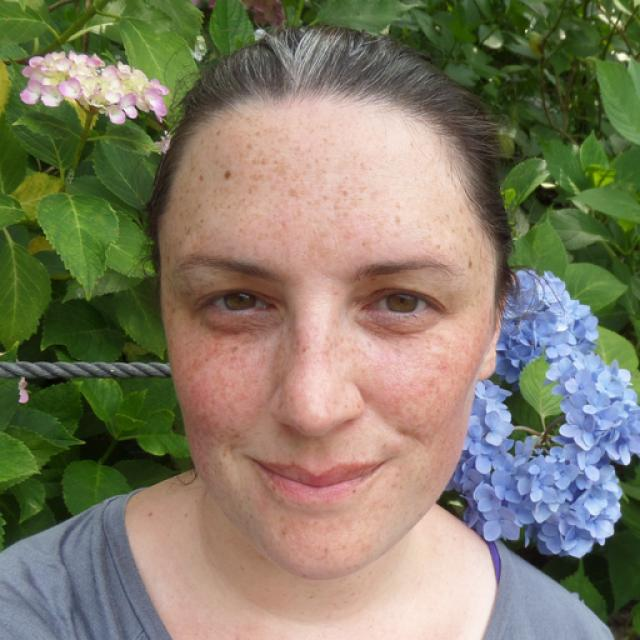Pigmentation: (176, 119, 319, 241), (368, 333, 478, 445), (179, 331, 272, 456), (423, 204, 494, 276)
